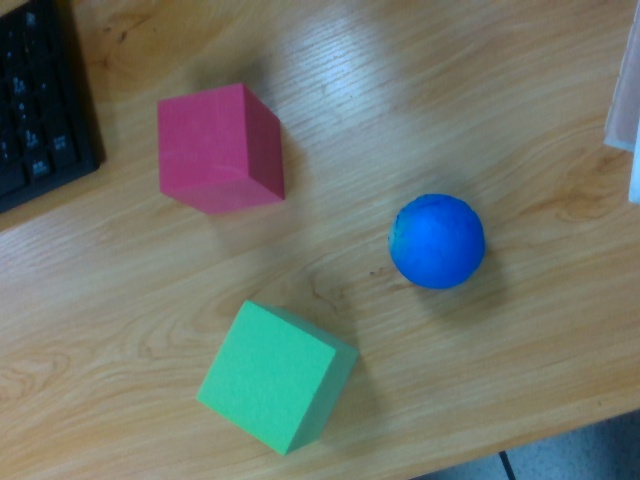blueball: (386, 191, 486, 291)
green: (193, 299, 360, 460)
red: (151, 92, 289, 214)
